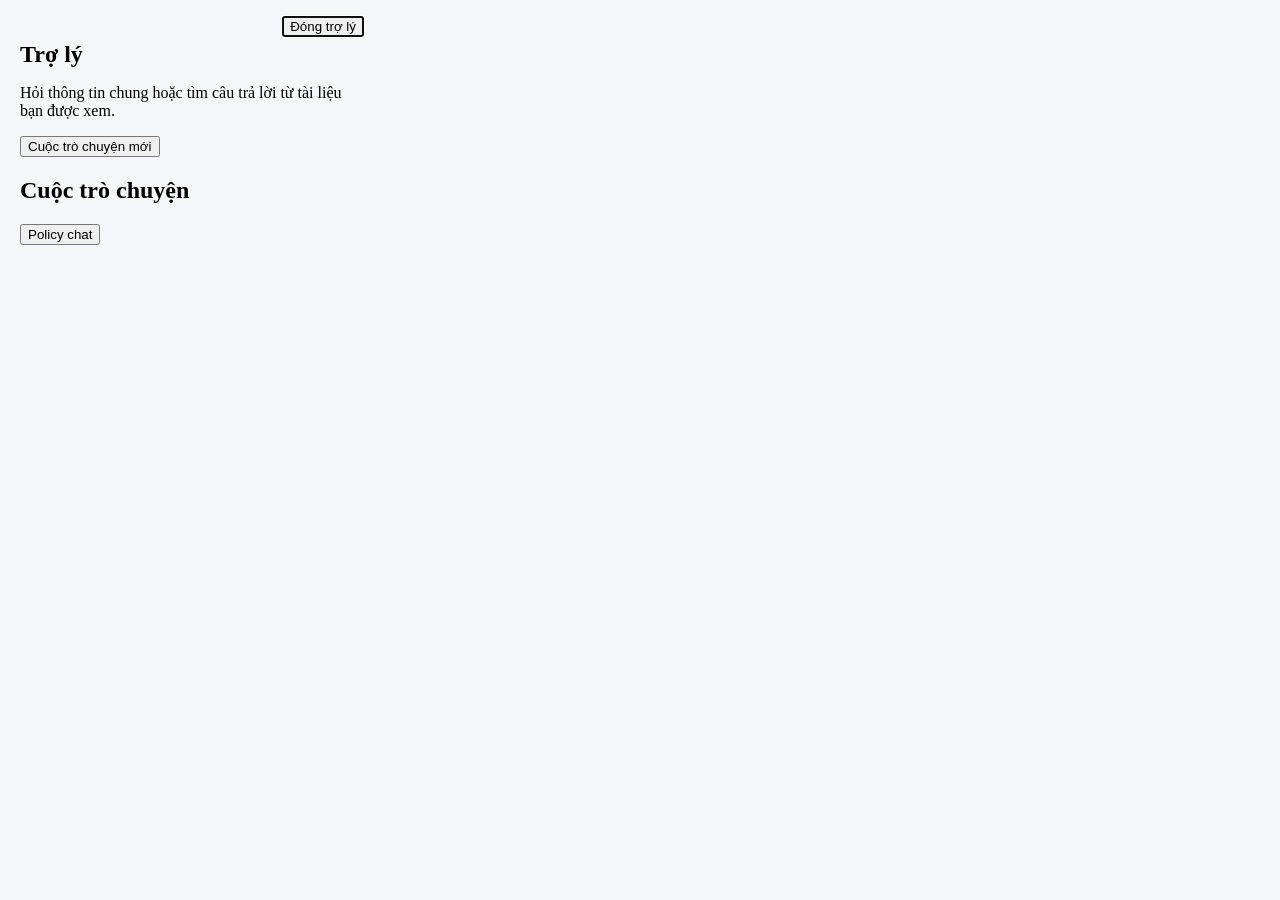
Test: loads on first open and retains the transcript, draft and exact retry across close and reopen
Later steps or results of the test are not shown.
Click the button "Policy chat" at (60, 234), box [20,224,100,245]
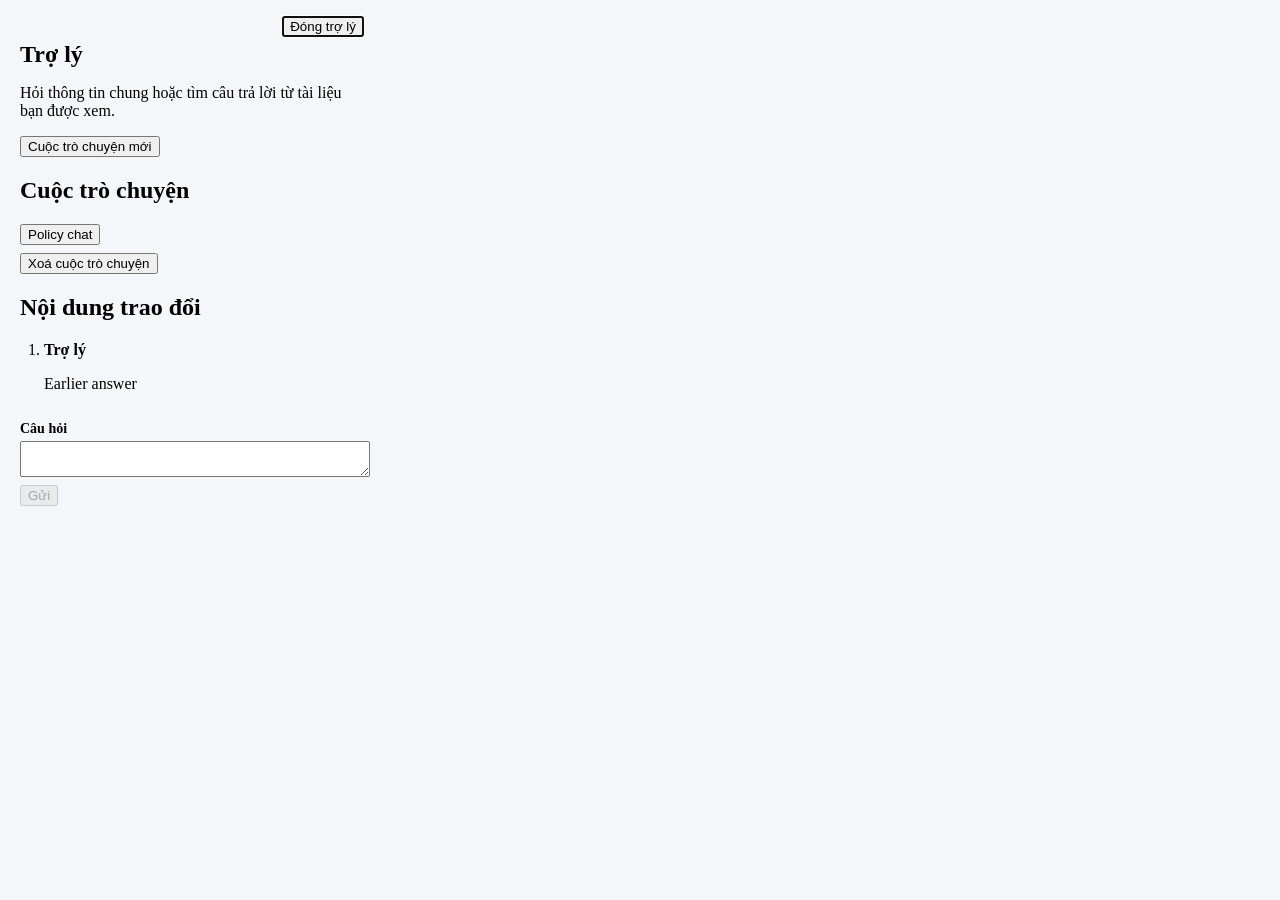
Result: the text "Earlier answer" is shown at [44,375,137,392]
